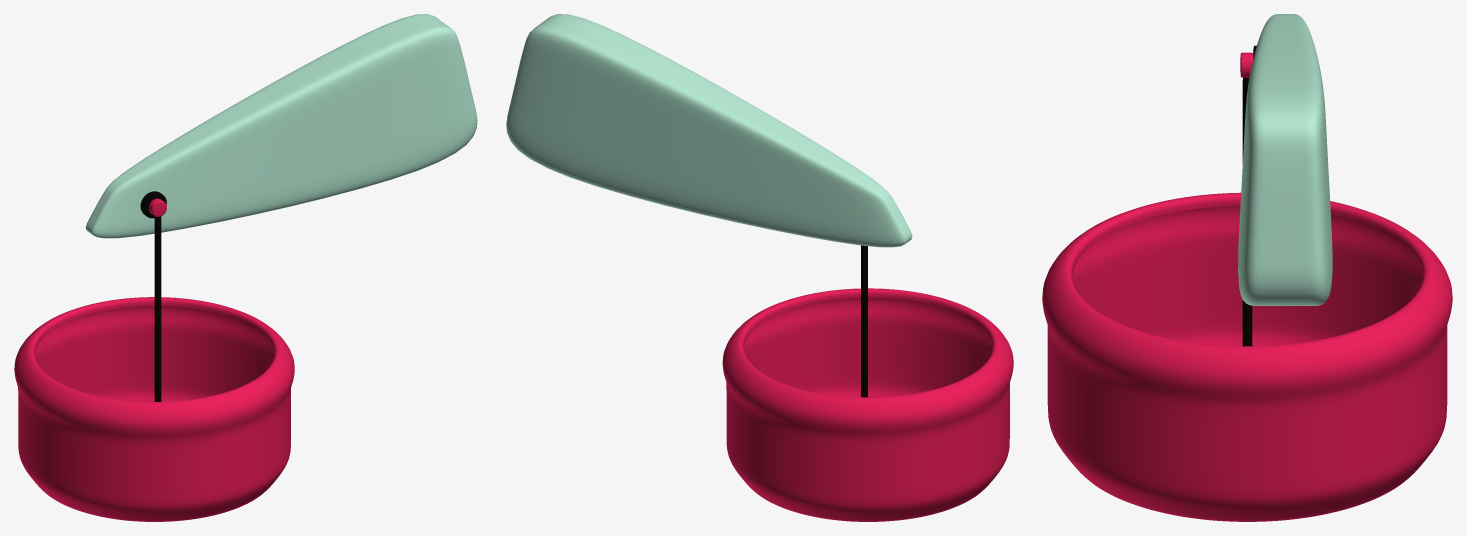
Rendered from Wings left.gltf.
3 renders of one model, left to right at view 1: azimuth 30°, elevation 25°; view 2: azimuth 150°, elevation 25°; view 3: azimuth 270°, elevation 25°, orthographic. The views are drawn at different scales.
Visible parts, largest first — view 1: basket-left, wings-left; view 2: basket-left, wings-left; view 3: basket-left, wings-left.
Part boxes in pixels (<box>): basket-left: <box>14,198,294,521</box>; wings-left: <box>85,14,477,238</box>; basket-left: <box>722,245,1013,521</box>; wings-left: <box>506,14,912,247</box>; basket-left: <box>1042,52,1452,521</box>; wings-left: <box>1238,14,1332,305</box>.
Bounding box in the file's own units: 1.21 × 0.9759 × 0.6607.
